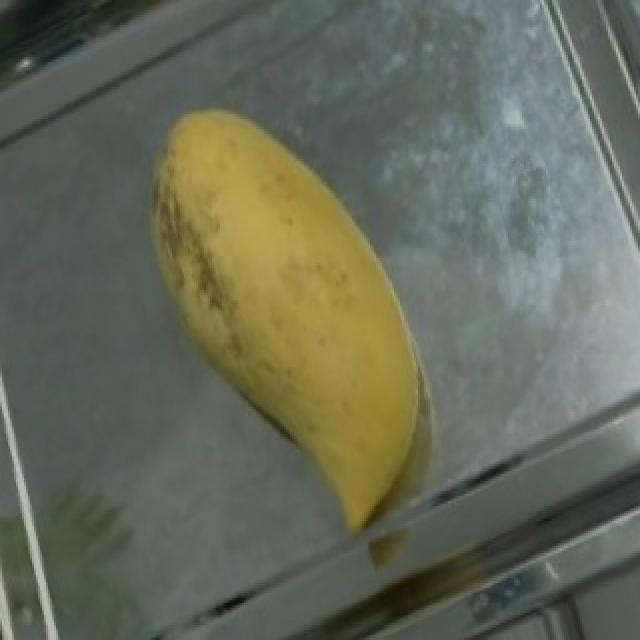fruit: (88, 50, 476, 439)
